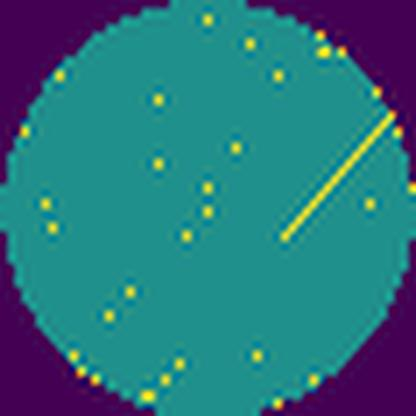Scratch: (276, 114, 398, 247)
